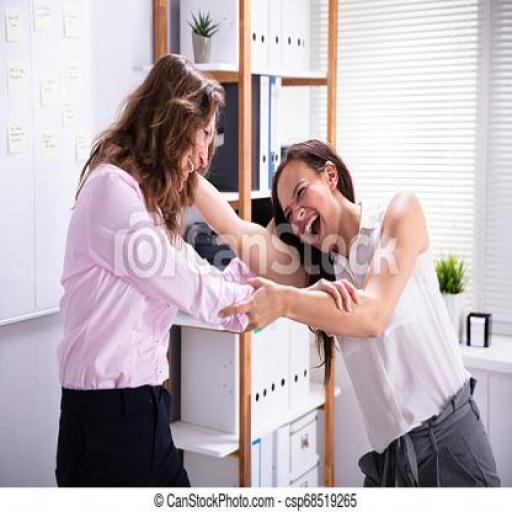Fighting: (60, 56, 501, 486)
